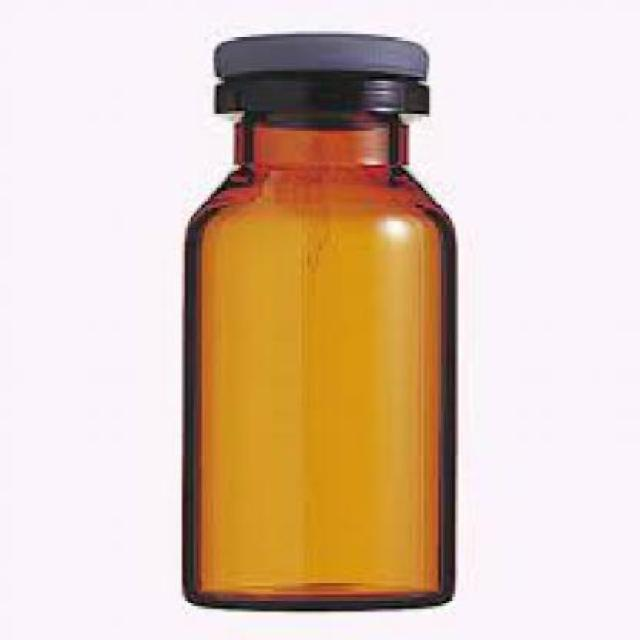kaca: (178, 108, 456, 606)
